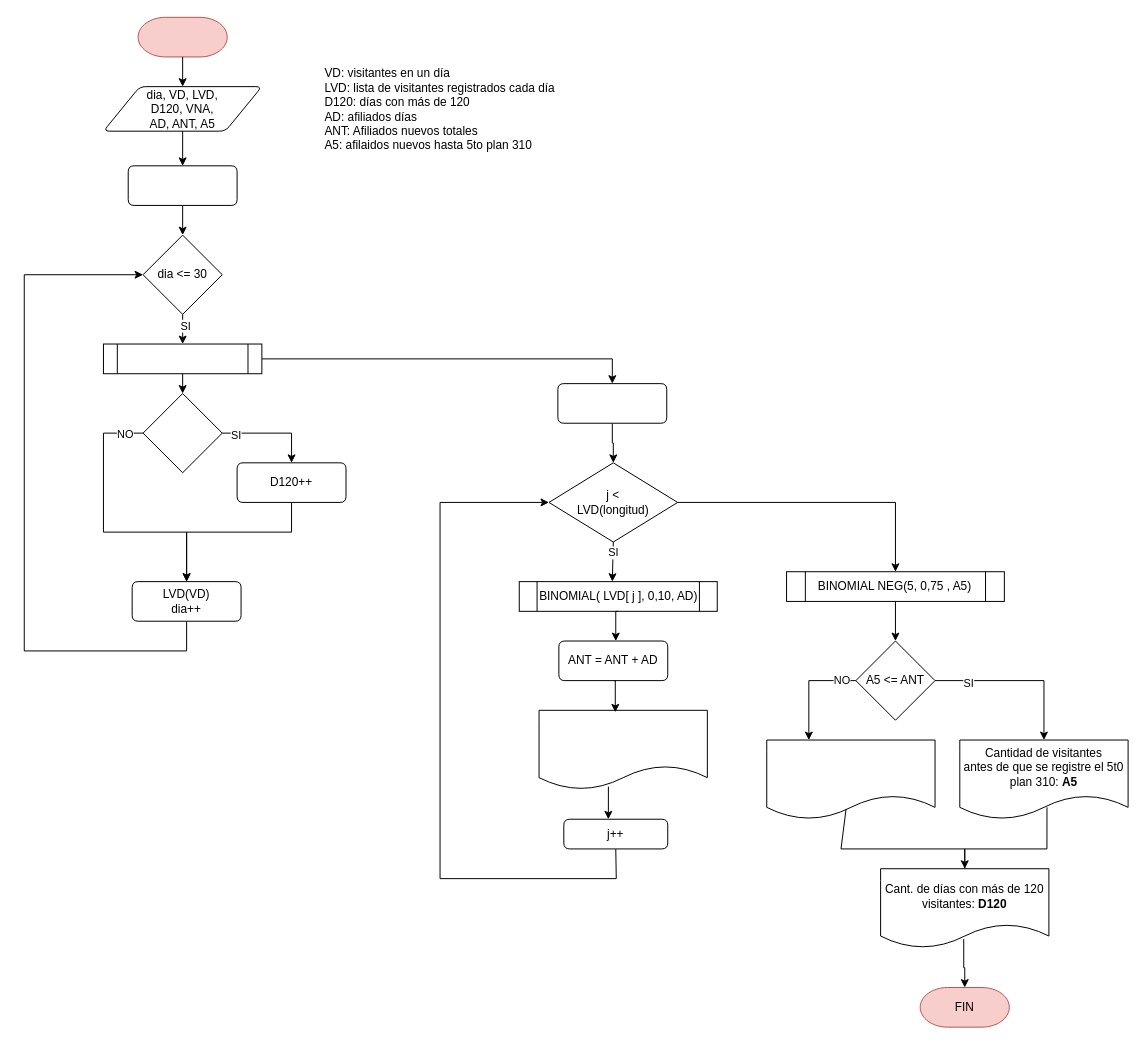
The diagram is 1145 pixels wide and 1044 high, and some of its shapes have lost their labels. Here are the shapes that lost their labels. From the top down, the centre of each, then its label:
At (x=182, y=36): "INICIO".
At (x=182, y=185): "dia=1, ANT=0".
At (x=182, y=358): "NORMAL(100,30, VD)".
At (x=612, y=403): "j = 0".
At (x=182, y=433): "VD > 120".
At (x=622, y=749): "Cantidad de visitantes que se convirtieron en afiliados: VNA en día dia".
At (x=850, y=779): "Cantidad de visitantes antes de que se registre el 5t0 plan 310: ANT".
